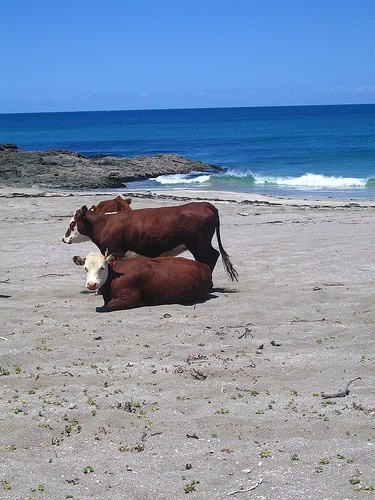cow: (58, 202, 241, 295), (71, 252, 216, 314)
